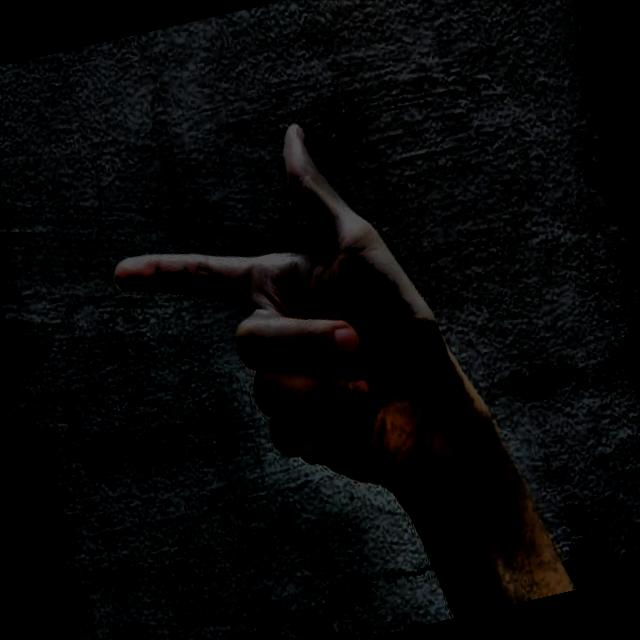Tho: (56, 45, 558, 589)
